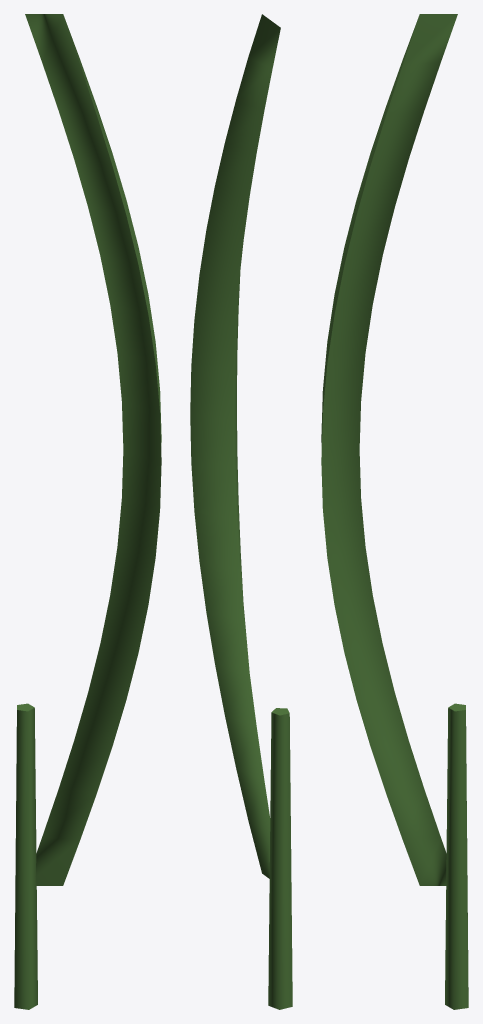
File: leaf-needle.glb
3 renders of one model, left to right at view 1: azimuth 90°, elevation 25°; view 2: azimuth 210°, elevation 25°; view 3: azimuth 270°, elevation 25°, orthographic.
Parts seen in each view (by area): view 1: tint-leaf, tint-petiole; view 2: tint-leaf, tint-petiole; view 3: tint-leaf, tint-petiole.
Boxes of the visible parts, <box> form: tint-leaf: <box>25,14,161,885</box>; tint-petiole: <box>14,703,37,1009</box>; tint-leaf: <box>190,14,280,878</box>; tint-petiole: <box>268,708,292,1009</box>; tint-leaf: <box>321,14,457,885</box>; tint-petiole: <box>445,703,468,1009</box>.
Size of the model in its own units: 0.05 by 1 by 0.1347.
